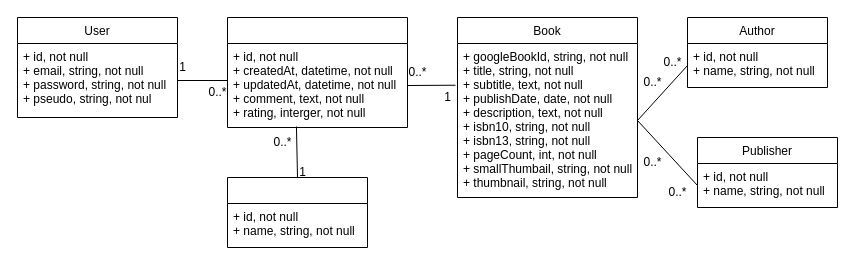
This 855x268 diagram has some shape labels left out. The box of each missing label's shape, as (x1, y1, x2, y2) in pixels:
Status: (226, 176, 368, 248)
UserBook: (226, 16, 408, 128)
